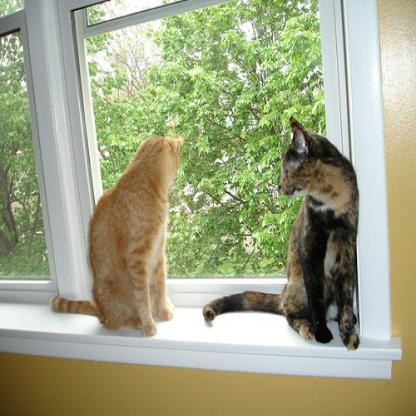cat: (201, 116, 363, 350), (49, 136, 182, 338)
